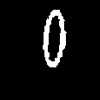chain: (43, 10, 65, 66)
